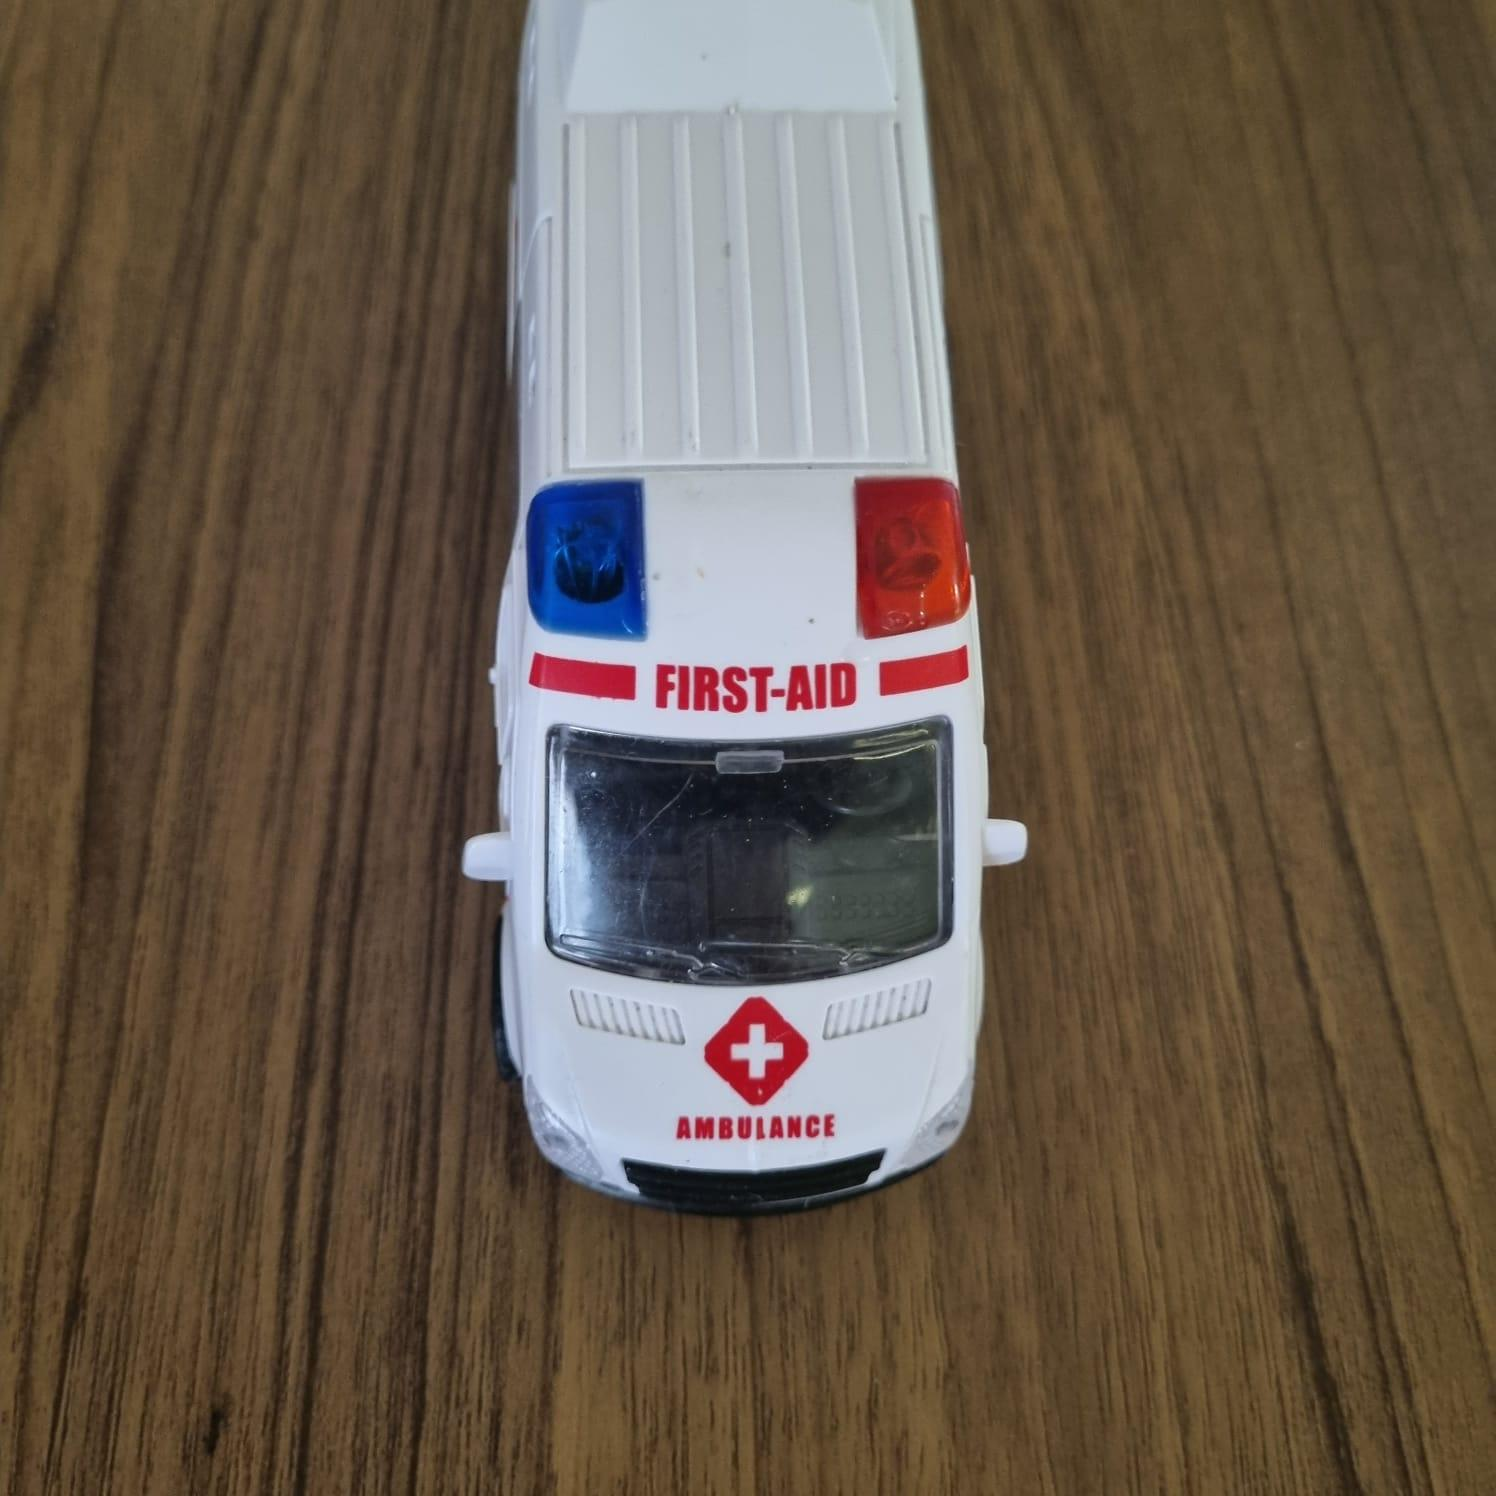ambulance_off: (467, 1, 1027, 1223)
